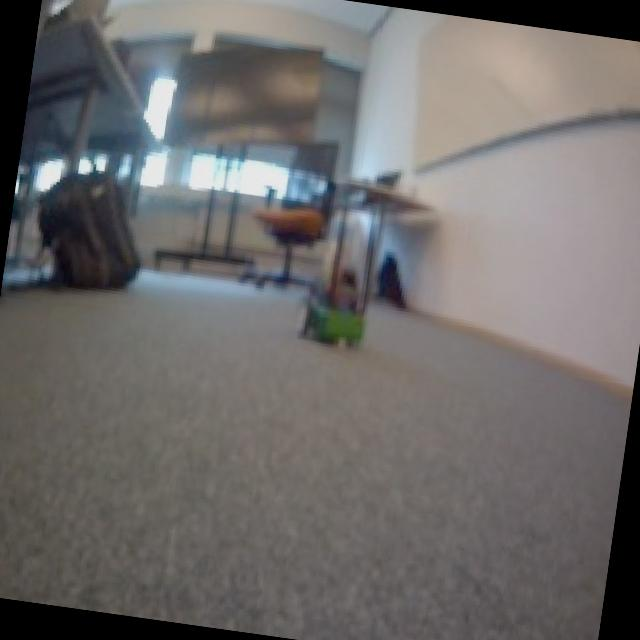robot: (297, 281, 373, 352)
